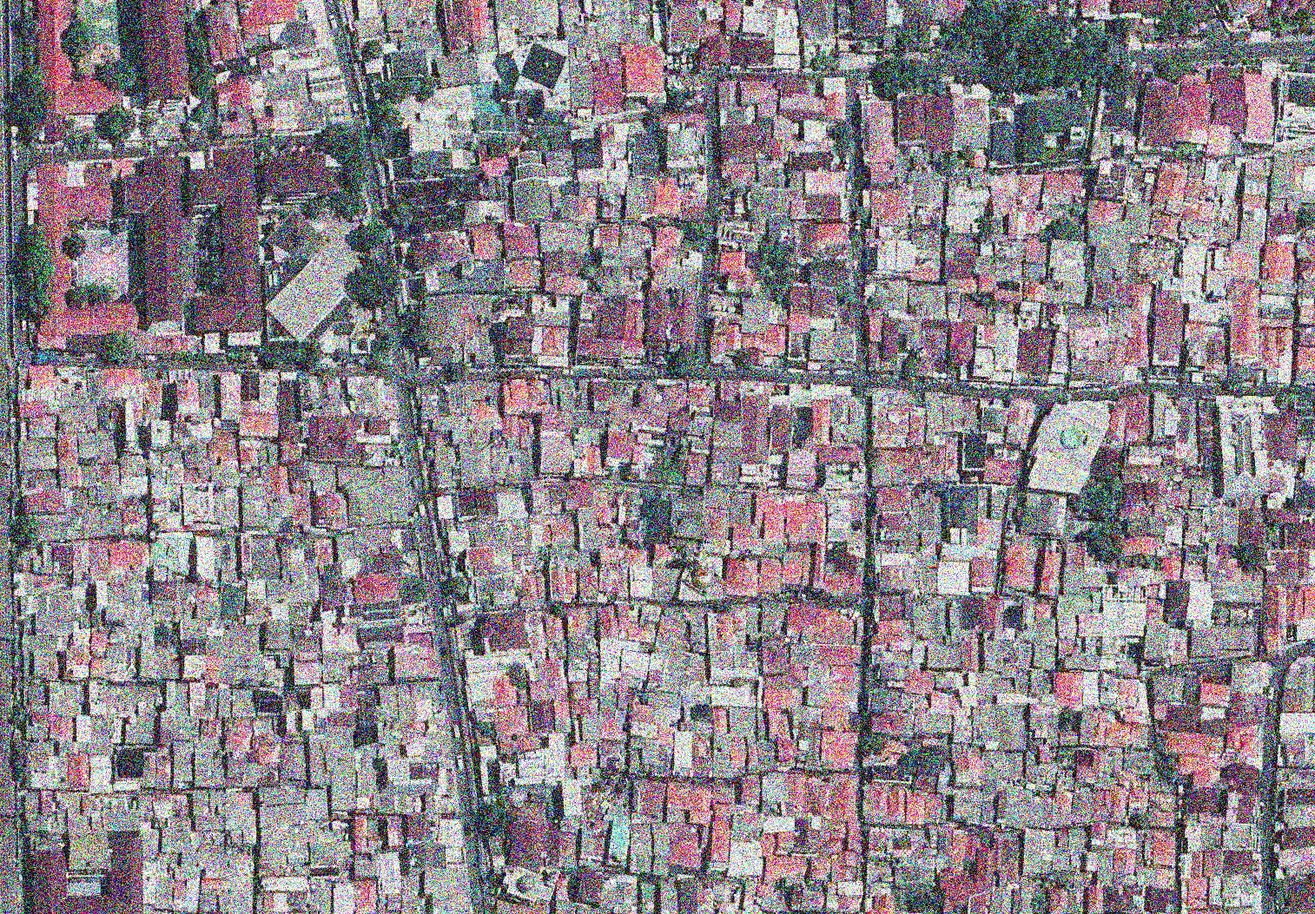building: (25, 160, 141, 355), (186, 147, 264, 336), (35, 0, 126, 142), (119, 155, 184, 330), (1022, 381, 1113, 506), (263, 258, 366, 361), (32, 838, 143, 913), (501, 42, 578, 125), (1214, 392, 1269, 502), (392, 175, 488, 237), (139, 0, 192, 111), (1018, 96, 1090, 162), (403, 261, 510, 304), (341, 463, 408, 529), (1174, 401, 1215, 506), (610, 378, 689, 432), (646, 287, 698, 368), (262, 145, 332, 205), (574, 292, 628, 369), (262, 209, 326, 273), (422, 294, 478, 366), (1149, 276, 1186, 383), (379, 122, 475, 163), (1090, 93, 1141, 165), (393, 85, 476, 129), (648, 224, 703, 290), (395, 232, 472, 279), (1099, 584, 1148, 655), (416, 382, 499, 422), (971, 323, 1023, 385), (1240, 63, 1278, 146), (1136, 80, 1178, 154), (1174, 68, 1213, 147), (464, 672, 532, 717), (278, 531, 320, 603), (513, 151, 555, 221), (1182, 325, 1230, 386), (1275, 72, 1315, 145), (466, 296, 505, 368), (1007, 493, 1068, 539), (386, 152, 478, 182), (621, 43, 666, 104), (593, 121, 630, 195), (999, 535, 1041, 600), (1189, 626, 1259, 664), (110, 571, 152, 634), (304, 417, 361, 463), (325, 732, 357, 813), (67, 492, 122, 539), (503, 865, 561, 909), (800, 0, 838, 67), (427, 414, 499, 449), (1263, 393, 1300, 461), (1210, 67, 1248, 133), (1228, 285, 1260, 363), (952, 85, 990, 150), (860, 733, 913, 779), (602, 426, 651, 475), (476, 611, 529, 656), (871, 388, 911, 447), (358, 603, 408, 650), (104, 369, 144, 427), (250, 70, 309, 109), (239, 0, 301, 37), (862, 101, 899, 163), (560, 0, 597, 61), (341, 370, 387, 419), (526, 609, 567, 663), (973, 485, 1008, 548), (914, 487, 949, 550), (494, 0, 539, 49), (740, 394, 771, 464), (1149, 665, 1201, 706), (1230, 222, 1264, 283), (223, 627, 260, 683), (258, 825, 312, 863), (663, 127, 704, 177), (1214, 0, 1274, 34), (1035, 537, 1067, 600), (639, 490, 675, 546), (69, 716, 118, 757), (1279, 656, 1314, 713), (1258, 586, 1286, 656), (301, 373, 343, 419), (542, 254, 589, 295), (441, 0, 475, 56), (876, 544, 914, 594), (130, 329, 203, 355), (668, 823, 708, 870), (967, 847, 995, 914), (1153, 161, 1187, 215), (501, 315, 535, 369), (648, 648, 687, 695), (350, 570, 402, 605), (681, 654, 716, 706), (1118, 483, 1168, 519), (678, 561, 723, 601), (655, 609, 695, 654), (509, 823, 548, 869), (529, 660, 568, 706), (831, 387, 863, 443), (710, 650, 761, 685), (1263, 242, 1297, 294), (1005, 396, 1039, 448), (1261, 329, 1292, 386), (918, 321, 949, 378), (474, 519, 531, 550), (1048, 239, 1087, 284), (1178, 756, 1228, 791), (472, 575, 518, 613), (183, 484, 220, 531), (669, 493, 706, 540), (457, 443, 494, 490), (1207, 877, 1261, 909), (384, 763, 438, 795), (153, 537, 191, 582), (1268, 155, 1296, 216), (169, 368, 200, 423), (316, 565, 352, 612), (464, 654, 529, 680), (790, 196, 848, 225), (67, 831, 109, 871), (925, 94, 953, 154), (1116, 677, 1151, 725), (1090, 161, 1129, 204), (193, 368, 223, 423), (541, 222, 591, 255), (149, 450, 184, 497), (729, 490, 764, 537), (530, 326, 569, 368), (55, 789, 93, 832), (320, 611, 358, 654), (666, 1, 698, 52), (591, 62, 623, 113), (618, 0, 654, 45), (722, 127, 771, 160), (393, 648, 439, 683), (1053, 828, 1087, 875), (194, 747, 228, 794), (1163, 732, 1224, 758), (287, 461, 336, 493), (228, 856, 255, 914), (570, 126, 604, 172), (437, 55, 483, 89), (788, 385, 812, 450), (201, 0, 242, 38), (1181, 244, 1206, 306), (622, 302, 647, 364), (570, 414, 605, 458), (1276, 770, 1314, 810), (1023, 828, 1054, 877), (543, 134, 576, 180), (1125, 316, 1153, 370), (591, 271, 645, 299), (630, 126, 659, 178), (594, 0, 620, 58), (269, 21, 316, 53), (243, 595, 290, 627), (632, 777, 664, 824), (1140, 625, 1170, 675), (957, 433, 987, 483), (252, 100, 296, 134), (1152, 391, 1180, 444), (1137, 830, 1175, 869), (740, 81, 778, 120), (908, 285, 948, 322), (872, 449, 912, 486), (503, 221, 540, 261), (562, 745, 598, 786), (1062, 868, 1094, 914), (388, 50, 434, 82), (353, 525, 402, 555), (258, 799, 307, 829), (708, 813, 732, 874), (1017, 330, 1051, 373), (112, 749, 143, 796), (398, 30, 445, 61), (897, 94, 925, 146), (626, 179, 659, 223), (605, 810, 630, 868), (1087, 443, 1123, 483), (871, 512, 916, 544), (206, 29, 247, 64), (943, 235, 977, 277), (911, 641, 962, 669), (816, 608, 858, 642), (1042, 170, 1085, 203), (13, 572, 72, 596), (529, 295, 573, 327), (1205, 247, 1231, 301), (1095, 244, 1131, 283), (550, 182, 581, 227), (994, 298, 1042, 327), (1062, 564, 1108, 594), (867, 689, 927, 712), (1231, 662, 1274, 694), (1151, 705, 1200, 733), (1013, 171, 1044, 215), (679, 175, 708, 222), (811, 385, 834, 444), (822, 731, 855, 772), (470, 224, 503, 265), (1054, 590, 1104, 617), (977, 398, 1007, 443), (995, 837, 1022, 887), (1237, 502, 1266, 548), (924, 823, 953, 869), (31, 544, 74, 575), (948, 175, 991, 206), (428, 446, 459, 489), (307, 67, 345, 102), (1258, 294, 1296, 329), (825, 693, 860, 731), (616, 647, 654, 682), (214, 79, 253, 113), (1276, 733, 1315, 767), (180, 854, 231, 880), (476, 747, 502, 798), (550, 379, 589, 413), (789, 149, 842, 174), (289, 481, 316, 530), (280, 743, 310, 787), (56, 366, 88, 407), (286, 706, 327, 738), (1181, 792, 1226, 821), (998, 707, 1027, 752), (989, 122, 1016, 170), (652, 725, 676, 779), (728, 842, 763, 879), (25, 743, 55, 786), (263, 622, 293, 665), (819, 465, 865, 493), (99, 799, 138, 832), (731, 38, 775, 67), (439, 818, 465, 867), (540, 437, 571, 478), (950, 487, 977, 534), (1264, 551, 1300, 586), (995, 256, 1023, 301), (971, 707, 999, 752), (938, 872, 968, 914), (790, 705, 827, 739), (1126, 393, 1152, 441), (1089, 824, 1137, 850), (924, 394, 948, 446), (869, 655, 908, 687), (785, 452, 817, 491), (614, 492, 640, 540), (713, 313, 742, 356), (762, 495, 789, 541), (829, 776, 856, 822), (808, 258, 852, 286), (713, 249, 757, 277), (1210, 506, 1240, 547), (865, 240, 895, 281), (952, 747, 982, 788), (422, 870, 471, 895), (687, 406, 712, 455), (150, 497, 184, 533), (470, 0, 494, 51), (464, 548, 501, 581), (834, 311, 857, 364), (595, 246, 648, 269), (865, 284, 907, 313), (571, 701, 600, 743), (1106, 722, 1151, 749), (806, 541, 828, 596), (18, 440, 57, 471), (1229, 693, 1268, 724), (1179, 823, 1222, 851), (537, 0, 565, 43), (217, 371, 241, 421), (783, 494, 807, 544), (570, 66, 594, 116), (349, 18, 389, 48), (991, 176, 1020, 217), (824, 517, 868, 544), (253, 534, 280, 578), (226, 807, 259, 843), (649, 567, 682, 603), (1063, 638, 1100, 670), (769, 395, 789, 454), (1052, 672, 1083, 710), (144, 377, 168, 426), (178, 639, 206, 681), (242, 487, 268, 532), (1276, 849, 1315, 879), (764, 857, 807, 884), (14, 597, 72, 617), (1177, 877, 1210, 912), (442, 521, 475, 556), (915, 601, 947, 637), (867, 763, 915, 787), (567, 605, 599, 641), (23, 615, 73, 638), (1080, 707, 1108, 748), (756, 640, 787, 677), (948, 323, 974, 367), (892, 829, 930, 859), (718, 379, 775, 399), (827, 545, 865, 575), (159, 829, 189, 867), (663, 782, 690, 824), (788, 603, 817, 642), (1165, 579, 1189, 626), (982, 781, 1006, 828), (773, 119, 806, 153), (496, 487, 529, 521), (1180, 851, 1223, 877), (1187, 580, 1213, 623), (1005, 785, 1031, 828), (753, 186, 789, 217), (500, 381, 531, 417), (79, 435, 116, 465), (1146, 211, 1183, 241), (1200, 672, 1230, 709), (48, 685, 85, 715), (1103, 397, 1127, 443), (213, 538, 237, 584), (550, 566, 579, 604), (475, 81, 504, 119), (193, 536, 215, 586), (1118, 563, 1162, 588), (1054, 772, 1074, 827), (172, 423, 214, 449), (1104, 886, 1143, 914), (873, 596, 915, 622), (873, 622, 912, 650), (318, 683, 357, 711), (1225, 794, 1259, 826), (885, 0, 919, 32), (477, 142, 509, 176), (1229, 727, 1264, 758), (19, 414, 59, 441), (1056, 618, 1083, 658), (779, 97, 824, 121), (307, 736, 327, 790), (570, 640, 597, 680), (360, 418, 397, 447), (519, 573, 548, 610), (357, 747, 378, 798), (1295, 149, 1314, 205), (896, 861, 934, 889), (544, 733, 564, 786), (1122, 203, 1154, 236), (796, 221, 820, 265), (397, 698, 441, 722), (498, 734, 542, 758), (1227, 762, 1261, 793), (938, 561, 969, 595), (952, 791, 983, 825), (210, 428, 237, 467), (688, 785, 715, 824), (781, 547, 806, 589), (495, 706, 530, 736), (1004, 642, 1033, 678), (354, 817, 383, 853), (397, 877, 426, 913), (213, 488, 239, 528), (950, 395, 978, 432), (721, 162, 758, 190), (219, 582, 246, 620), (947, 208, 985, 235), (513, 800, 551, 827), (630, 739, 657, 777), (516, 749, 543, 787), (466, 200, 507, 225), (405, 813, 438, 844), (503, 418, 536, 449), (139, 862, 159, 913), (652, 825, 672, 876), (574, 870, 604, 904), (33, 514, 68, 543), (969, 559, 998, 594), (864, 783, 890, 822), (654, 179, 680, 218), (1089, 283, 1133, 306), (757, 687, 803, 709), (1085, 850, 1113, 886), (741, 299, 769, 335), (174, 743, 194, 793), (396, 678, 446, 698), (311, 841, 351, 866), (263, 462, 290, 499), (981, 458, 1018, 485), (698, 0, 725, 37), (712, 449, 739, 486), (789, 885, 826, 912), (853, 1, 885, 32), (126, 716, 157, 748), (701, 35, 731, 68), (630, 828, 652, 873), (559, 784, 581, 829), (599, 639, 621, 684), (825, 575, 863, 601), (1263, 214, 1297, 243), (716, 220, 750, 249), (507, 262, 541, 291), (66, 754, 90, 795), (21, 471, 60, 496), (805, 170, 844, 195), (494, 446, 519, 485), (707, 612, 734, 648), (1120, 465, 1171, 484), (1271, 809, 1315, 831), (1127, 779, 1149, 823), (1072, 781, 1094, 825), (184, 446, 210, 483), (742, 0, 768, 37), (374, 686, 400, 723), (614, 876, 640, 913), (550, 830, 576, 867), (1188, 301, 1228, 325), (320, 651, 349, 684), (382, 0, 411, 33), (162, 681, 190, 715), (59, 408, 97, 433), (20, 637, 70, 656), (915, 551, 937, 594), (825, 498, 868, 520), (817, 444, 862, 465), (296, 650, 323, 685), (578, 512, 601, 553), (258, 787, 305, 807), (1048, 283, 1087, 307), (1065, 541, 1101, 567), (89, 755, 113, 794), (861, 188, 910, 207), (1075, 748, 1103, 781), (702, 508, 730, 541), (762, 669, 806, 690), (371, 548, 404, 576), (687, 608, 709, 650), (548, 483, 576, 516), (239, 414, 279, 437), (1215, 161, 1238, 201), (872, 489, 912, 512), (810, 332, 837, 366), (550, 517, 577, 551), (1223, 851, 1261, 875), (813, 647, 861, 666), (946, 830, 967, 873), (1087, 223, 1128, 245), (1182, 546, 1207, 582), (230, 689, 260, 719), (479, 118, 524, 138), (727, 706, 756, 737), (1087, 201, 1126, 224), (759, 558, 782, 597), (410, 2, 442, 30), (710, 687, 757, 706), (345, 654, 372, 687), (731, 815, 764, 842), (1121, 536, 1161, 558), (314, 491, 336, 531), (257, 862, 312, 878), (88, 486, 123, 511), (269, 498, 294, 533), (64, 645, 89, 680), (406, 740, 441, 765), (474, 487, 499, 522), (1114, 850, 1137, 888), (673, 733, 692, 779), (732, 528, 762, 557), (577, 169, 606, 199), (123, 402, 140, 453), (714, 881, 741, 913), (528, 703, 555, 735), (1294, 348, 1315, 389), (24, 493, 67, 513), (765, 709, 791, 742), (381, 818, 407, 851), (711, 782, 737, 815), (260, 369, 279, 414), (660, 109, 705, 128), (804, 780, 827, 817), (155, 647, 180, 681), (90, 540, 110, 582), (1284, 523, 1314, 551), (1125, 444, 1165, 465), (757, 161, 787, 189), (19, 653, 47, 683), (84, 678, 105, 718), (156, 873, 177, 913), (785, 774, 805, 816), (692, 736, 712, 778), (588, 380, 612, 415), (1144, 887, 1175, 914), (254, 732, 281, 763), (283, 50, 321, 72), (1184, 178, 1203, 222), (379, 874, 401, 912), (498, 550, 536, 572), (281, 372, 298, 421), (69, 580, 95, 612), (414, 845, 446, 871), (600, 568, 626, 600), (961, 599, 984, 635), (957, 671, 980, 707), (721, 139, 757, 162), (195, 587, 220, 620), (18, 398, 59, 418), (371, 648, 391, 689), (894, 240, 915, 279), (432, 893, 471, 914), (807, 499, 826, 542), (1223, 825, 1257, 849), (1150, 793, 1174, 827), (863, 164, 900, 186), (295, 102, 323, 131), (350, 849, 378, 878), (1199, 707, 1229, 734), (1029, 719, 1059, 746), (810, 287, 837, 317), (600, 742, 627, 772), (124, 500, 147, 535), (1289, 880, 1314, 912), (912, 181, 944, 206), (723, 560, 743, 600), (312, 535, 337, 567), (889, 783, 908, 825), (713, 735, 732, 777), (763, 603, 787, 636), (117, 687, 139, 723), (136, 686, 160, 719), (227, 721, 251, 754), (830, 665, 859, 692), (355, 722, 384, 749), (762, 775, 789, 804), (755, 886, 784, 913), (688, 376, 715, 405), (225, 56, 259, 79), (1030, 797, 1056, 827), (719, 106, 758, 126), (678, 874, 698, 913), (339, 0, 378, 20), (1036, 604, 1055, 645), (911, 446, 932, 483), (1207, 126, 1232, 157), (627, 570, 652, 601), (983, 600, 1005, 635), (1131, 284, 1155, 316), (740, 465, 772, 489), (538, 412, 570, 436), (868, 207, 908, 226), (806, 669, 826, 707), (309, 824, 349, 843), (882, 317, 900, 359), (1138, 868, 1174, 889), (866, 885, 893, 913), (171, 717, 199, 744), (257, 688, 284, 716), (25, 711, 50, 741), (1297, 282, 1314, 326), (1293, 481, 1315, 515), (382, 727, 404, 761), (597, 606, 619, 640), (528, 484, 550, 518), (311, 19, 335, 50), (817, 224, 848, 248), (621, 223, 652, 247), (1119, 1, 1172, 15), (105, 586, 125, 623), (107, 644, 127, 681), (580, 566, 600, 603), (1296, 239, 1314, 280), (1104, 340, 1127, 372), (981, 639, 1004, 671), (787, 333, 810, 365), (1280, 829, 1315, 850), (155, 792, 190, 813), (140, 824, 161, 859), (761, 814, 796, 835), (198, 719, 224, 747), (378, 852, 406, 878), (899, 320, 921, 353), (355, 879, 377, 912), (982, 752, 1007, 781), (1165, 508, 1184, 546), (1068, 309, 1106, 328), (360, 687, 379, 725), (1184, 510, 1204, 546), (1106, 308, 1130, 338), (20, 683, 50, 707), (725, 271, 756, 294), (741, 337, 764, 368), (712, 401, 743, 424), (685, 455, 708, 486), (765, 325, 787, 357), (496, 759, 515, 796), (909, 407, 927, 446), (990, 887, 1016, 914), (433, 767, 459, 794), (594, 223, 621, 249), (29, 366, 57, 391), (1179, 221, 1214, 241), (1124, 518, 1165, 535), (109, 543, 133, 572), (796, 820, 820, 849), (629, 703, 658, 727), (598, 875, 619, 908), (119, 455, 149, 478), (1123, 750, 1153, 773), (50, 713, 73, 743), (806, 729, 822, 772), (838, 1, 852, 50), (1162, 547, 1181, 583), (868, 714, 904, 733), (658, 877, 677, 913), (743, 559, 760, 599), (1042, 304, 1068, 330), (867, 857, 893, 883), (334, 533, 358, 561), (600, 717, 628, 741), (718, 196, 747, 219), (1005, 600, 1023, 637), (906, 788, 924, 825), (1279, 715, 1314, 734), (17, 387, 56, 404), (58, 433, 78, 466), (959, 303, 992, 323), (1091, 790, 1111, 823), (775, 741, 797, 771), (1200, 183, 1216, 224), (24, 791, 40, 832), (140, 609, 156, 650), (381, 797, 422, 813), (306, 789, 327, 820), (457, 491, 478, 522), (717, 81, 741, 108), (520, 447, 538, 483), (483, 178, 510, 202), (88, 372, 107, 406), (864, 226, 907, 241), (435, 494, 458, 522), (862, 312, 882, 344), (335, 881, 355, 913), (928, 691, 957, 713), (1030, 695, 1059, 717), (775, 9, 797, 38), (703, 488, 732, 510), (556, 874, 578, 903), (1267, 509, 1302, 527), (239, 536, 253, 581), (1286, 589, 1303, 626), (189, 684, 208, 717), (1151, 769, 1176, 794), (945, 435, 958, 483), (157, 751, 173, 790), (407, 625, 433, 649), (151, 582, 178, 605), (1033, 646, 1060, 669), (713, 424, 740, 447), (258, 50, 289, 70), (757, 742, 777, 773), (150, 421, 172, 449), (1270, 1, 1314, 15), (228, 333, 264, 350), (1169, 631, 1187, 665), (924, 793, 942, 827), (601, 196, 622, 225), (225, 758, 244, 790), (1166, 484, 1190, 509), (953, 716, 973, 746), (919, 0, 931, 50), (108, 627, 138, 647), (329, 715, 359, 735), (259, 878, 309, 890), (311, 882, 331, 912), (1025, 237, 1048, 263), (1077, 614, 1103, 637), (923, 738, 949, 761), (945, 0, 968, 26), (181, 620, 207, 643), (987, 445, 1022, 462), (647, 692, 682, 709), (121, 476, 148, 498), (1080, 0, 1113, 18), (905, 670, 932, 692), (934, 763, 952, 796), (242, 759, 260, 792), (142, 753, 158, 790), (1051, 332, 1070, 363), (723, 0, 742, 31), (244, 34, 272, 55), (925, 714, 953, 735), (294, 635, 322, 656), (790, 285, 810, 314), (183, 877, 200, 911), (138, 646, 154, 682), (553, 702, 571, 734), (627, 627, 659, 645), (356, 791, 382, 813), (827, 92, 846, 122), (219, 119, 252, 136), (1127, 66, 1144, 99), (962, 639, 979, 672), (709, 334, 726, 367), (585, 447, 602, 480), (980, 672, 996, 707), (931, 0, 945, 40), (158, 714, 174, 749), (59, 467, 83, 490), (84, 166, 113, 185), (212, 468, 241, 487), (908, 168, 937, 187), (153, 604, 182, 623), (531, 521, 550, 550), (767, 218, 792, 240), (110, 159, 136, 180), (302, 0, 328, 21), (868, 827, 889, 853), (403, 721, 429, 742), (740, 778, 761, 804), (73, 540, 89, 574), (179, 585, 194, 621), (932, 445, 946, 483), (579, 829, 593, 867), (428, 721, 451, 744), (1101, 674, 1117, 707), (203, 687, 219, 720), (641, 606, 663, 630), (741, 881, 758, 912), (132, 543, 150, 572), (240, 371, 258, 400), (905, 148, 931, 168), (578, 198, 598, 224), (913, 773, 940, 792), (91, 631, 110, 658), (73, 614, 89, 646), (45, 653, 62, 683), (208, 626, 225, 656), (200, 876, 230, 893), (1030, 671, 1053, 693), (280, 442, 301, 466), (1113, 787, 1127, 823), (136, 793, 154, 821), (731, 606, 749, 634), (1084, 672, 1099, 705), (1006, 753, 1025, 779), (576, 484, 595, 510), (1008, 213, 1026, 240), (589, 835, 607, 862), (258, 763, 280, 785), (1023, 282, 1046, 303), (773, 833, 794, 856), (333, 494, 346, 531), (810, 857, 830, 881), (835, 881, 865, 897), (653, 707, 683, 723), (1300, 552, 1314, 586), (831, 867, 859, 884), (1105, 750, 1124, 775), (497, 902, 540, 913), (602, 685, 615, 721), (196, 816, 227, 831), (310, 865, 339, 881), (126, 649, 140, 682), (789, 313, 812, 333), (702, 541, 729, 558), (949, 606, 961, 644), (230, 790, 254, 809), (202, 336, 227, 354), (946, 278, 976, 293), (34, 839, 64, 854), (1087, 884, 1103, 912), (965, 836, 981, 864), (773, 53, 801, 69), (106, 684, 120, 716), (204, 656, 221, 682), (732, 741, 745, 775), (975, 257, 997, 277), (326, 103, 345, 126), (82, 465, 101, 488), (171, 880, 186, 909), (629, 724, 658, 739), (616, 603, 631, 632), (762, 803, 793, 817), (745, 742, 759, 773), (39, 790, 55, 817), (211, 790, 229, 814), (597, 503, 615, 527), (56, 757, 69, 790), (747, 604, 760, 637), (193, 790, 210, 815), (599, 551, 624, 568), (998, 693, 1028, 707), (780, 81, 810, 95), (280, 420, 299, 442), (824, 77, 846, 96), (270, 889, 289, 911), (626, 550, 648, 569), (775, 36, 798, 54), (934, 673, 958, 690), (812, 317, 836, 334), (652, 544, 676, 561), (847, 823, 861, 852), (188, 150, 208, 170), (1051, 888, 1067, 913), (838, 851, 863, 867), (319, 47, 340, 66), (101, 465, 120, 486), (288, 890, 307, 911), (199, 893, 218, 914), (67, 164, 85, 186), (240, 450, 258, 472), (762, 542, 784, 560), (617, 683, 628, 718), (1018, 624, 1036, 645), (256, 890, 274, 911), (600, 530, 618, 551), (98, 403, 111, 432), (679, 722, 708, 735), (713, 709, 728, 734), (1303, 587, 1314, 621), (690, 707, 712, 724), (912, 267, 940, 280), (218, 689, 231, 717), (804, 123, 823, 142), (1023, 265, 1047, 280), (1298, 620, 1314, 642), (839, 898, 861, 914), (867, 345, 880, 372), (421, 793, 438, 813), (1093, 776, 1114, 792), (247, 582, 268, 598), (699, 888, 713, 912), (1297, 327, 1315, 345), (792, 644, 810, 662), (789, 173, 803, 196), (91, 658, 105, 681), (818, 818, 832, 841), (1114, 772, 1135, 787), (215, 891, 230, 912), (826, 884, 838, 910), (308, 688, 322, 710), (978, 276, 995, 294), (345, 560, 363, 577), (571, 682, 588, 700), (772, 140, 787, 160), (258, 440, 269, 467), (1024, 598, 1036, 622), (1026, 213, 1039, 235), (995, 678, 1014, 693), (1187, 162, 1205, 177), (240, 400, 259, 414), (1059, 731, 1078, 745), (96, 583, 107, 607), (914, 712, 925, 736), (826, 841, 843, 856), (1205, 162, 1218, 181), (1016, 675, 1029, 694), (830, 823, 845, 839), (753, 219, 766, 237), (903, 714, 913, 737), (240, 440, 262, 450), (242, 477, 262, 488), (1038, 746, 1050, 764), (974, 152, 986, 169), (268, 445, 277, 467), (907, 739, 925, 750), (588, 682, 601, 697), (576, 905, 600, 913), (281, 519, 294, 533), (882, 359, 895, 373), (41, 817, 53, 830), (556, 905, 575, 912), (748, 239, 759, 251), (250, 466, 260, 477)
tree: (313, 114, 384, 197), (0, 61, 61, 146), (339, 249, 411, 321), (864, 48, 928, 104), (17, 225, 55, 319), (948, 0, 1015, 53), (89, 96, 145, 153), (1018, 11, 1073, 67), (1067, 477, 1123, 524), (1079, 516, 1130, 567), (51, 16, 101, 65), (345, 210, 396, 258), (894, 741, 946, 787), (1012, 48, 1058, 98), (1048, 43, 1093, 93), (954, 62, 1022, 95), (90, 52, 141, 95), (987, 16, 1030, 66), (1063, 46, 1119, 82), (256, 342, 324, 371), (1099, 55, 1141, 100), (363, 91, 405, 133), (476, 794, 515, 837), (1065, 13, 1106, 53), (1155, 0, 1199, 37), (380, 194, 418, 235), (397, 305, 428, 354), (826, 120, 860, 162), (329, 189, 369, 224), (56, 227, 92, 263), (1148, 53, 1188, 85), (1269, 8, 1314, 36), (181, 18, 208, 64), (7, 8, 42, 43), (7, 513, 40, 549), (294, 190, 328, 224), (1151, 751, 1184, 786), (478, 130, 513, 163), (930, 21, 968, 51), (404, 72, 439, 104), (374, 76, 411, 106), (197, 208, 221, 254), (761, 240, 794, 273), (759, 269, 792, 301), (7, 732, 26, 787), (1083, 31, 1118, 60), (895, 889, 937, 913), (367, 325, 391, 367), (100, 332, 133, 362), (929, 148, 960, 179), (681, 220, 710, 253), (201, 248, 224, 289), (189, 61, 214, 98), (1003, 2, 1039, 27), (971, 210, 1001, 240), (1051, 702, 1081, 732), (1235, 543, 1265, 572), (856, 730, 888, 757), (1047, 215, 1081, 240), (1103, 17, 1133, 45), (844, 203, 874, 231), (668, 351, 695, 380), (1280, 53, 1315, 75), (433, 361, 468, 383), (807, 49, 838, 73), (84, 281, 114, 305), (171, 353, 228, 365), (1273, 386, 1299, 412), (397, 582, 426, 605), (1269, 877, 1289, 910), (951, 140, 976, 165), (64, 283, 89, 308), (504, 662, 527, 689), (834, 283, 858, 308), (664, 86, 688, 111), (1043, 870, 1074, 889), (1220, 367, 1244, 391), (1064, 201, 1087, 224), (729, 347, 751, 371), (893, 30, 918, 51), (520, 134, 547, 153), (1027, 890, 1048, 914), (447, 572, 468, 596), (1295, 203, 1314, 229), (360, 39, 383, 60), (1127, 810, 1151, 830), (641, 102, 658, 130), (595, 766, 617, 787), (472, 719, 495, 739), (1173, 141, 1199, 158), (920, 75, 942, 95), (191, 99, 207, 125), (251, 135, 268, 158), (612, 777, 631, 795), (988, 104, 1005, 124), (236, 349, 252, 363), (592, 781, 605, 792)
